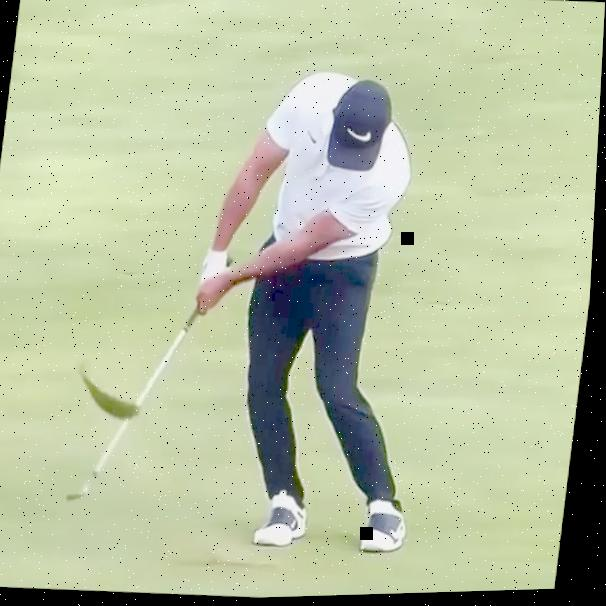ClubHead: (68, 488, 91, 505)
